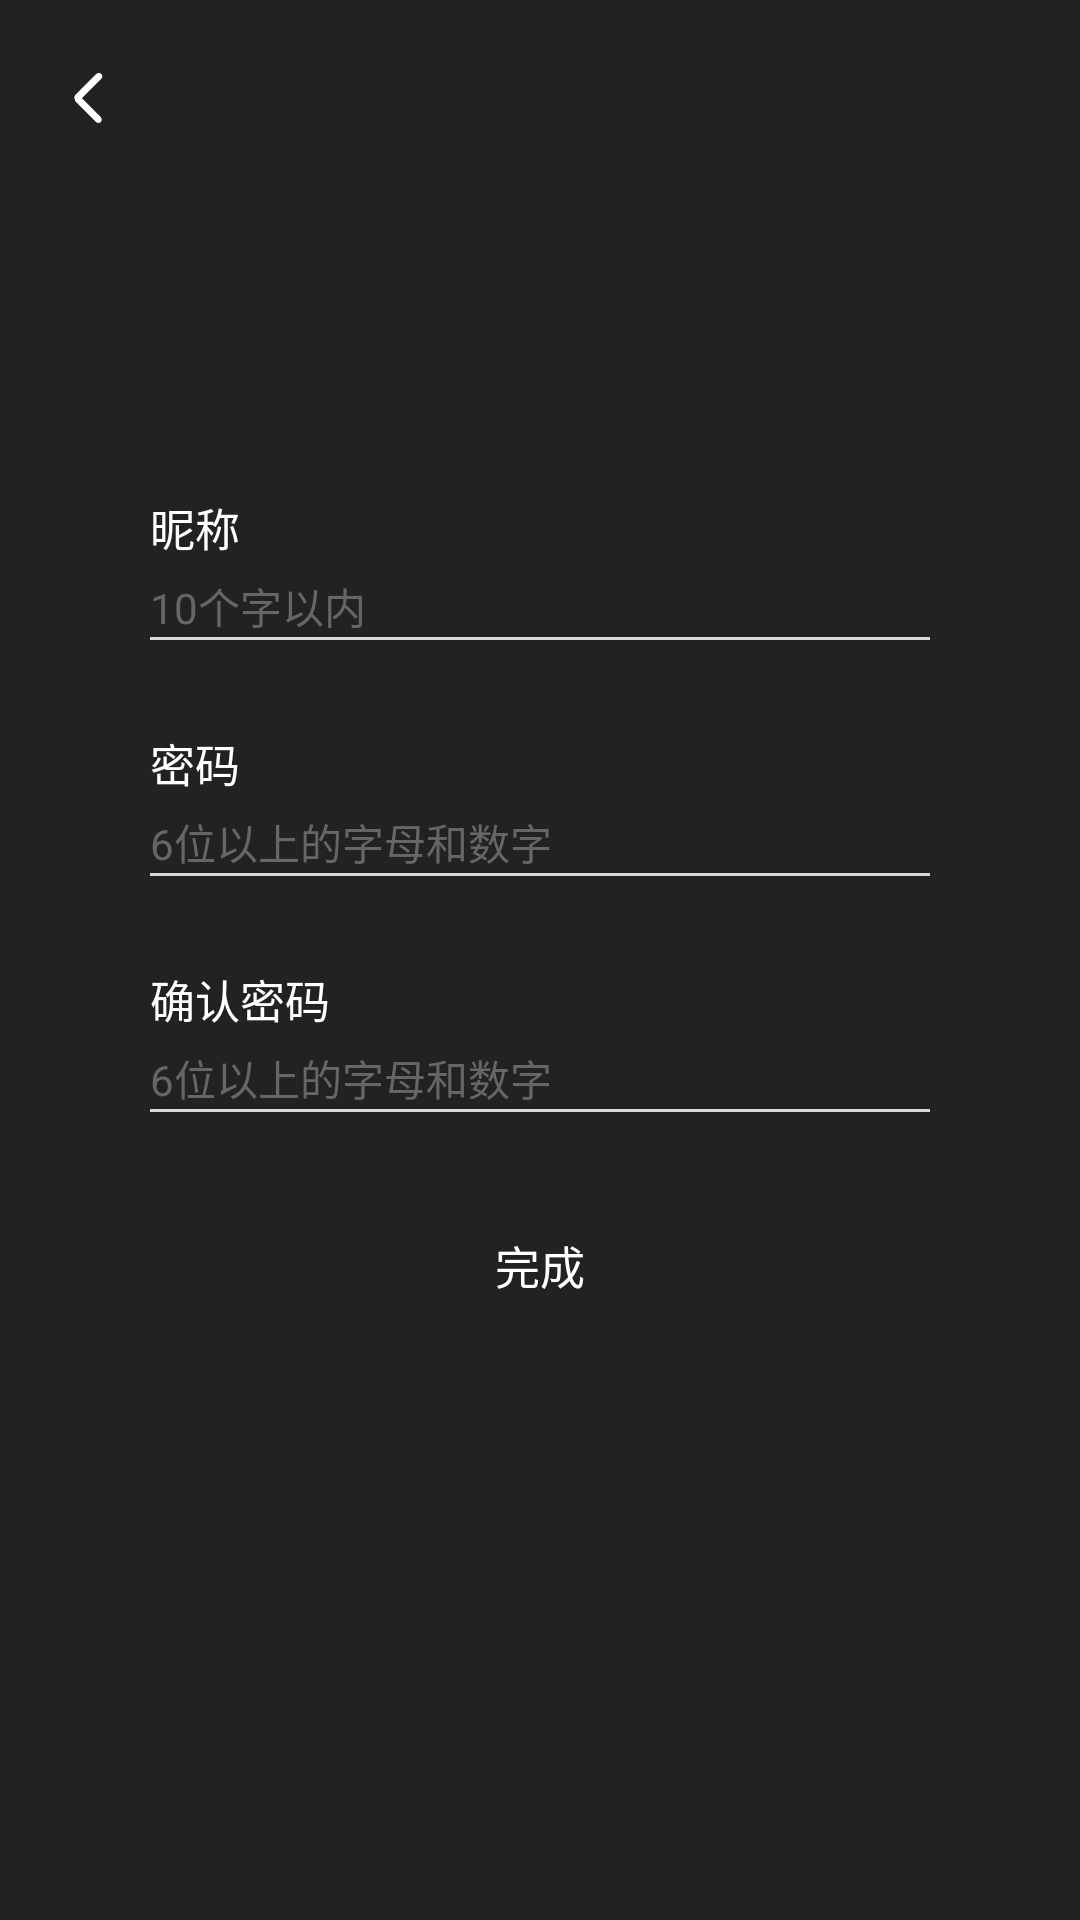

Icons on this 1080px×1920px Android screen, each with its box as bbox(x1, y1, x2, y2):
back: bbox(74, 73, 103, 123)
